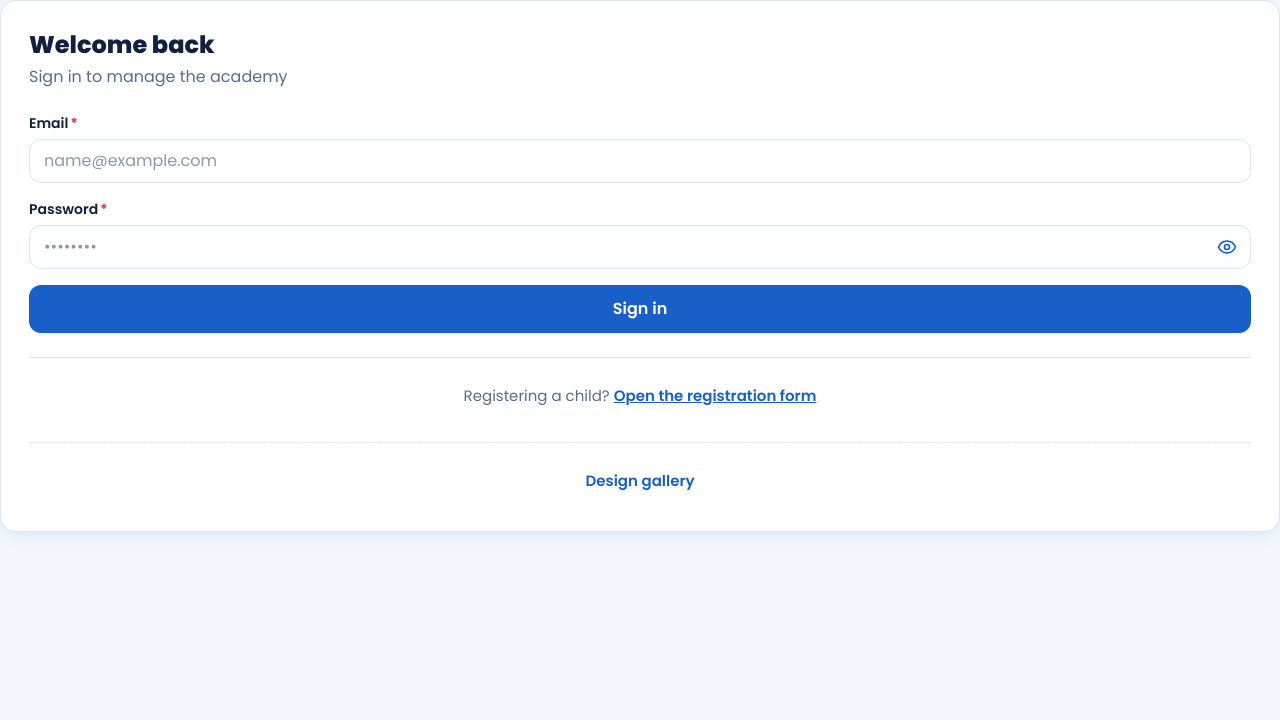
Test: LoginPage › asks for both fields before signing in
Click the button "Sign in". click: point(640, 309)
box: [29,285,1251,333]
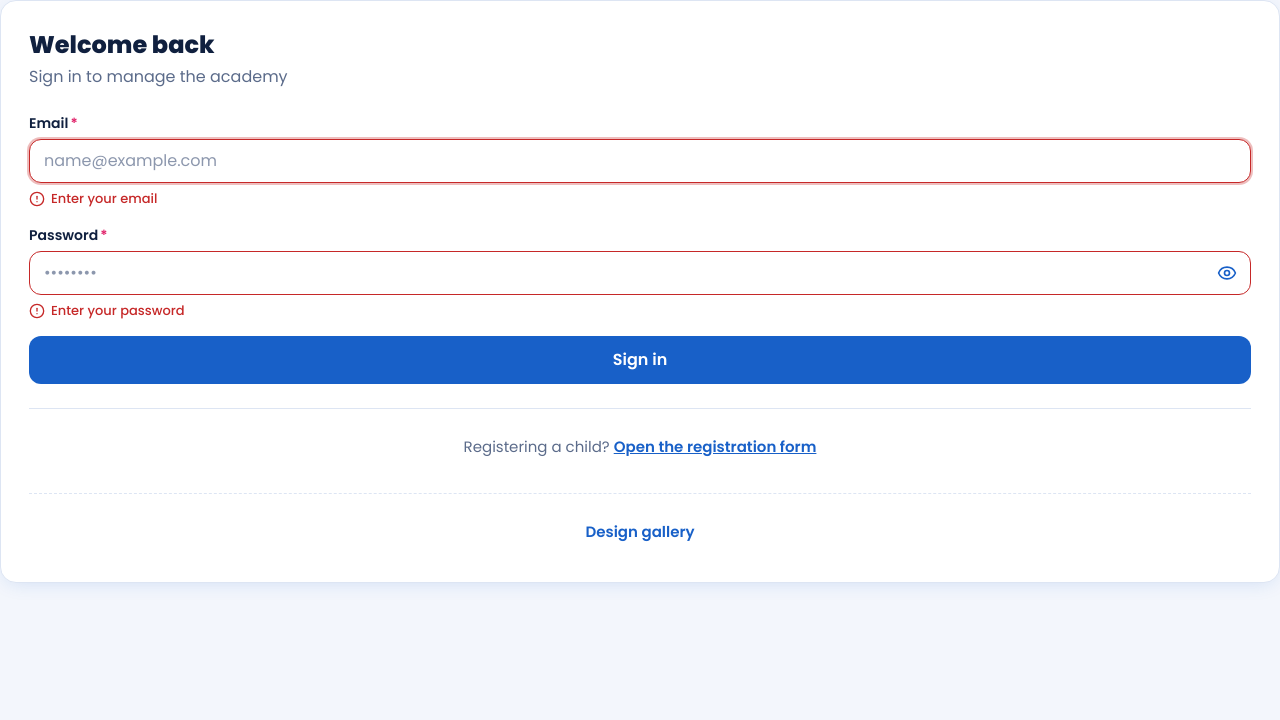
Check: the text "Enter your email" is shown, box [51,189,157,208]
Check: the text "Enter your password" is shown, box [51,300,184,320]
